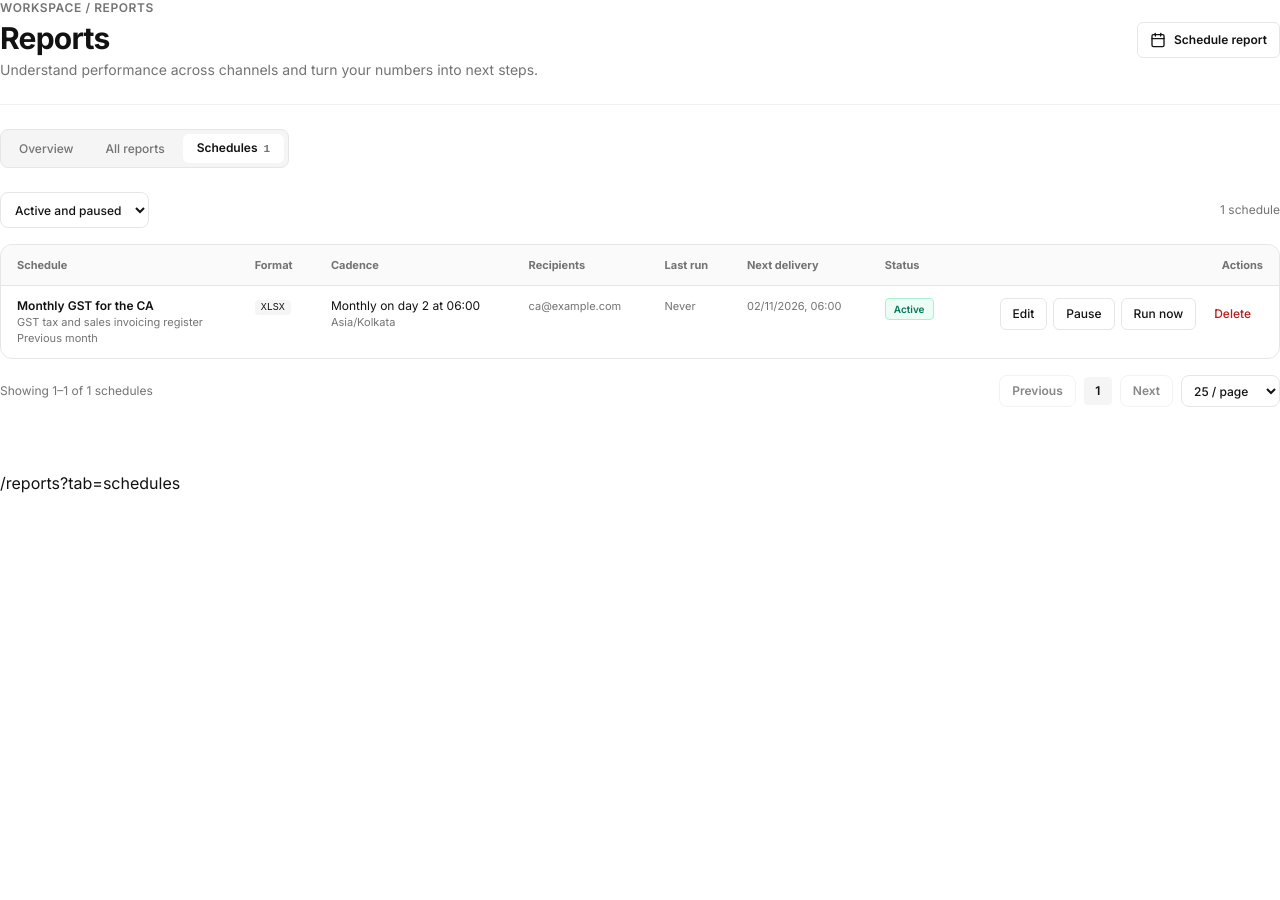
Scenario: ReportsPage: schedules › shows the server's message under a field it refuses
This screenshot has width=1280, height=900.
Click the button with aria-label "Edit Monthly GST for the CA".
click(1024, 314)  # box [1000,298,1047,330]
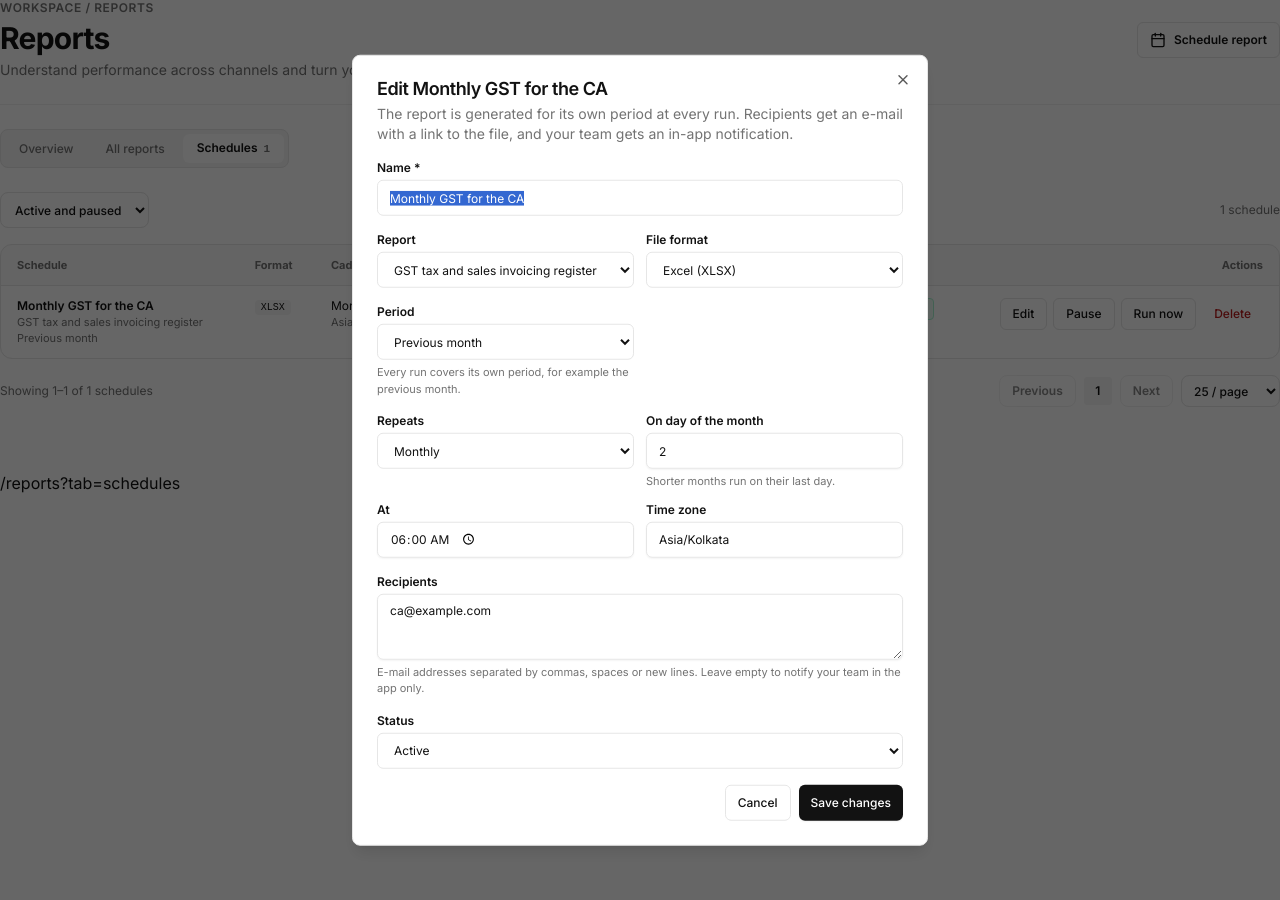
Replace the text in the field labelled "Time zone" with "Mars/Base" at [774, 539], box [646,521,903,557]
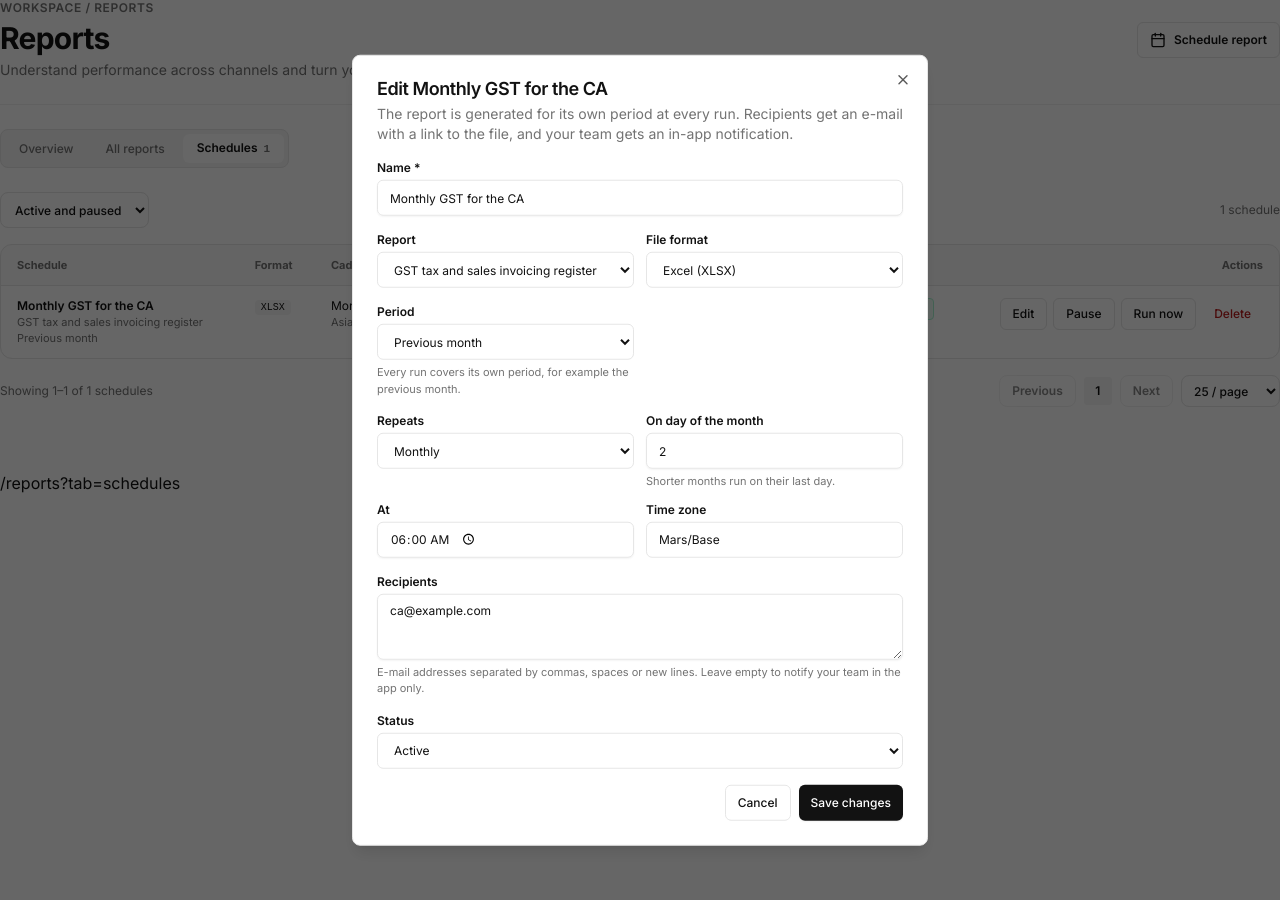
Click the button "Save changes".
click(851, 802)  # box [799,784,903,820]
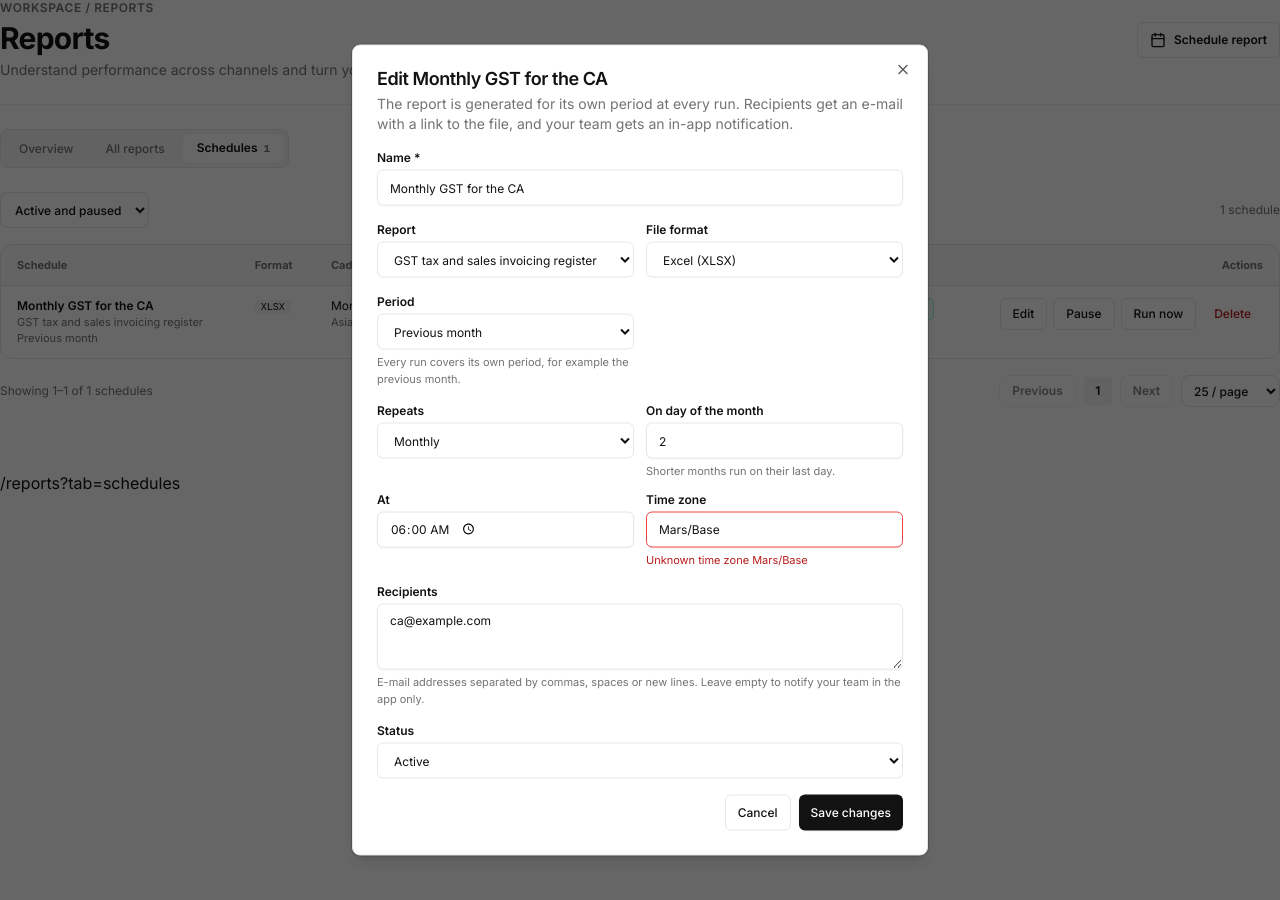
Check: the text "Unknown time zone Mars/Base" is shown, box [646,552,808,566]
